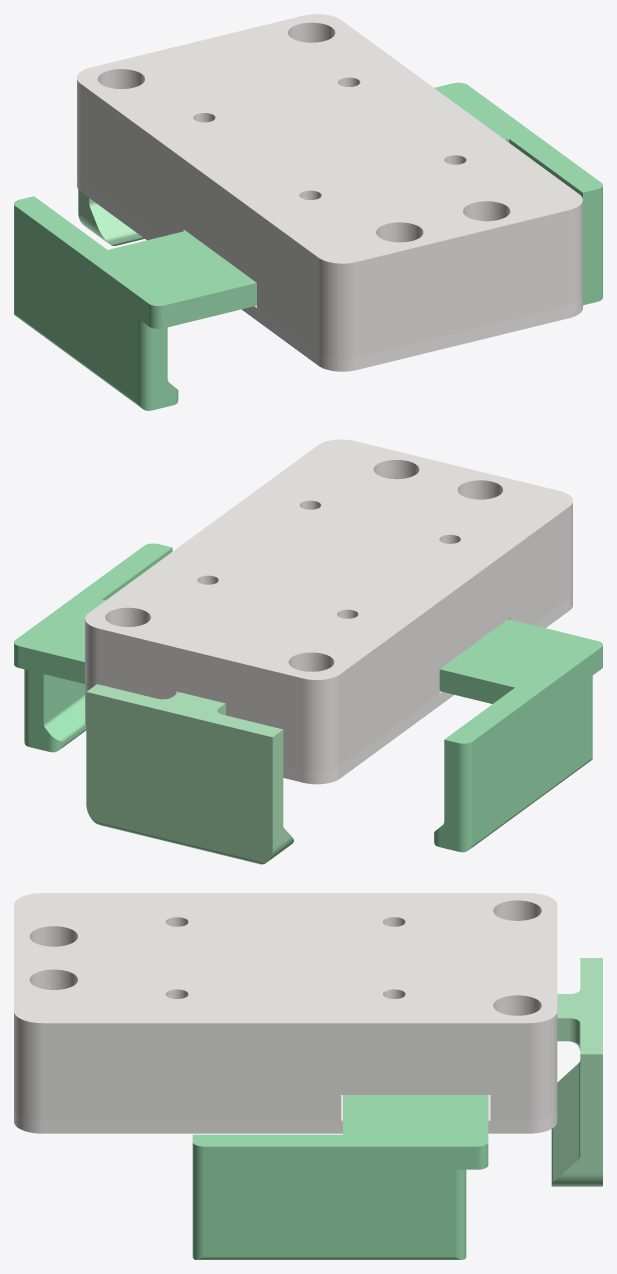
Rendered from preview_open.glb.
3 renders of one model, top to bottom at view 1: azimuth 30°, elevation 25°; view 2: azimuth 150°, elevation 25°; view 3: azimuth 270°, elevation 25°, orthographic. The views are drawn at different scales.
Parts seen in each view (by area): view 1: base, arm_l, arm_r, cover, foot; view 2: base, foot, arm_l, arm_r, cover; view 3: base, arm_r, foot, cover.
Boxes of the visible parts, x1,y1,x2,y2 form: base: [77, 14, 582, 358]; arm_l: [14, 196, 256, 410]; arm_r: [434, 82, 602, 305]; cover: [77, 175, 582, 371]; foot: [78, 190, 144, 245]; base: [85, 439, 572, 771]; foot: [86, 684, 293, 864]; arm_l: [434, 619, 602, 852]; arm_r: [14, 543, 172, 752]; cover: [85, 595, 572, 784]; base: [14, 893, 557, 1120]; arm_r: [192, 1095, 488, 1259]; foot: [551, 958, 602, 1186]; cover: [14, 1095, 557, 1133].
Size of the model in its own units: 96 by 36.4 by 103.
